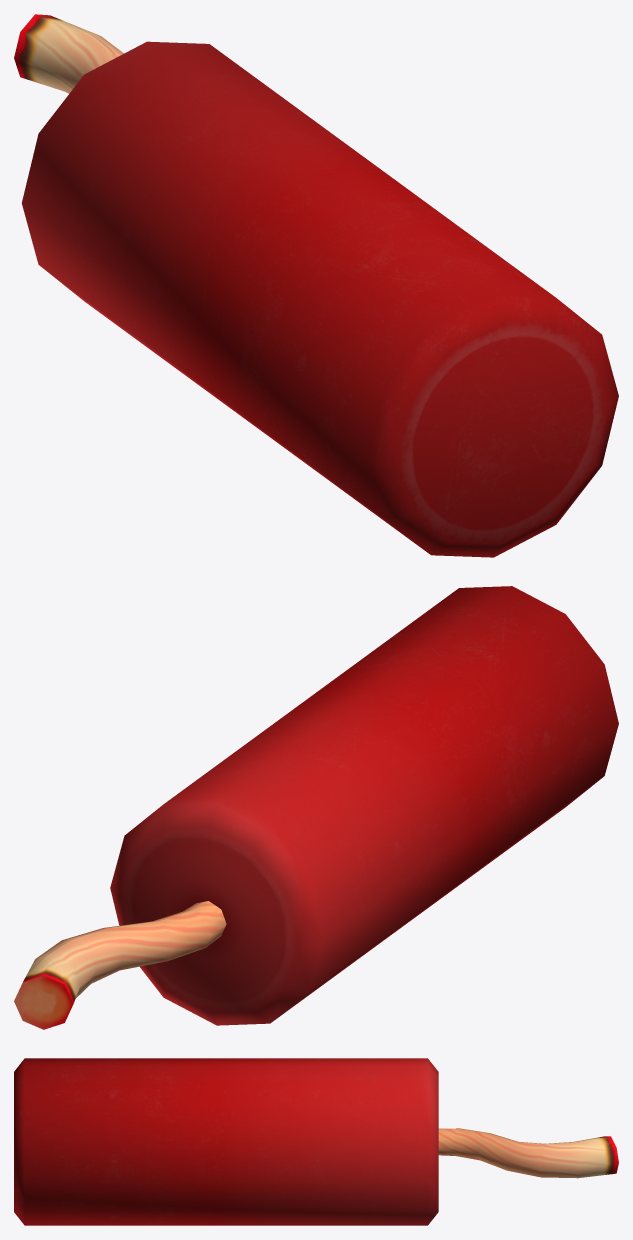
The model's file is Dynamite.FBX.
The picture shows the model from 3 angles, top to bottom: view 1: azimuth 30°, elevation 25°; view 2: azimuth 150°, elevation 25°; view 3: azimuth 270°, elevation 25°; orthographic projection. The views are drawn at different scales.
Visible parts, largest first — view 1: Dynamite; view 2: Dynamite; view 3: Dynamite.
Boxes of the visible parts, x1,y1,x2,y2 form: Dynamite: [14, 14, 618, 557]; Dynamite: [14, 586, 618, 1029]; Dynamite: [14, 1058, 618, 1225].
Bounding box in the file's own units: 13.73 × 13.73 × 49.45.
1 material, 1 textured.
